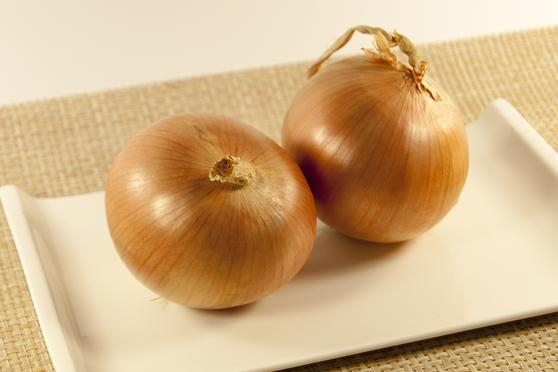onion: (100, 111, 316, 316), (282, 28, 473, 250)
